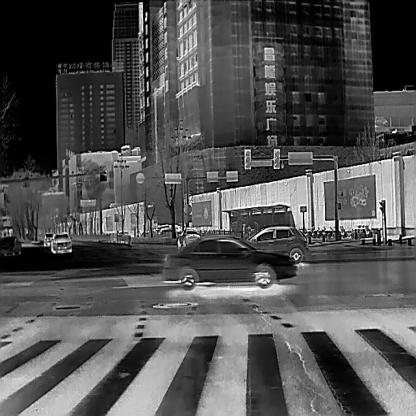car: (162, 234, 297, 291), (244, 224, 310, 264), (50, 230, 72, 252), (0, 234, 22, 255), (177, 228, 200, 246), (43, 232, 53, 246)
